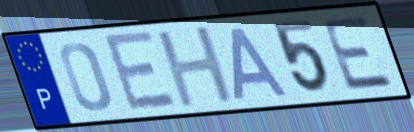0: (58, 39, 114, 113)
5: (268, 20, 333, 97)
A: (228, 24, 293, 103)
E: (99, 29, 181, 116), (318, 14, 399, 93)
H: (153, 23, 239, 111)
